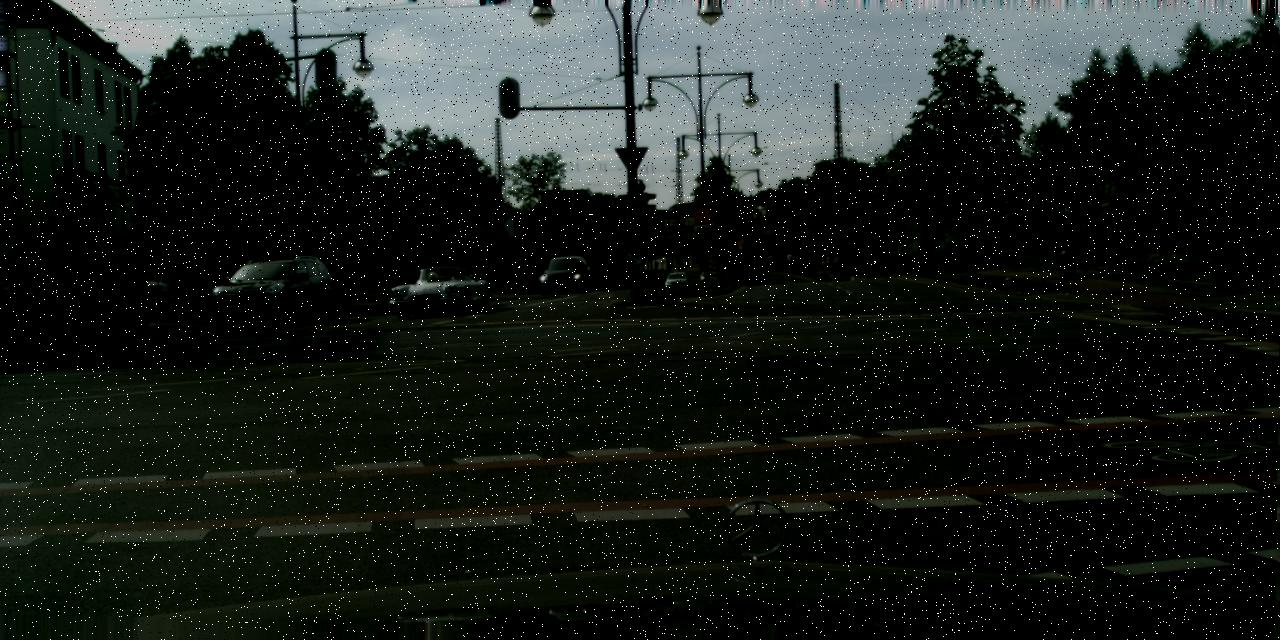ped: (4, 260, 32, 327)
